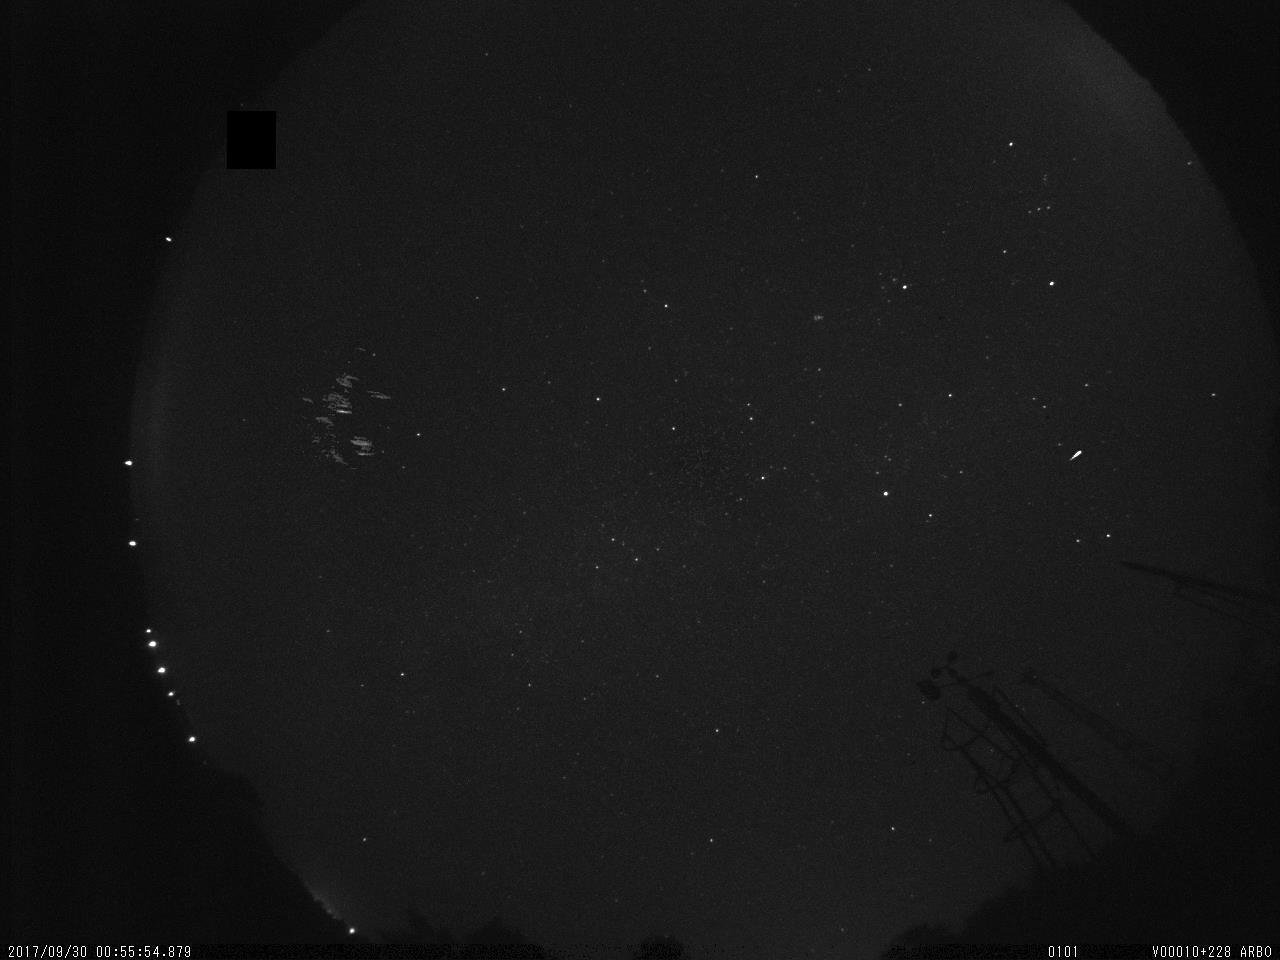TLE: (293, 345, 396, 469)
